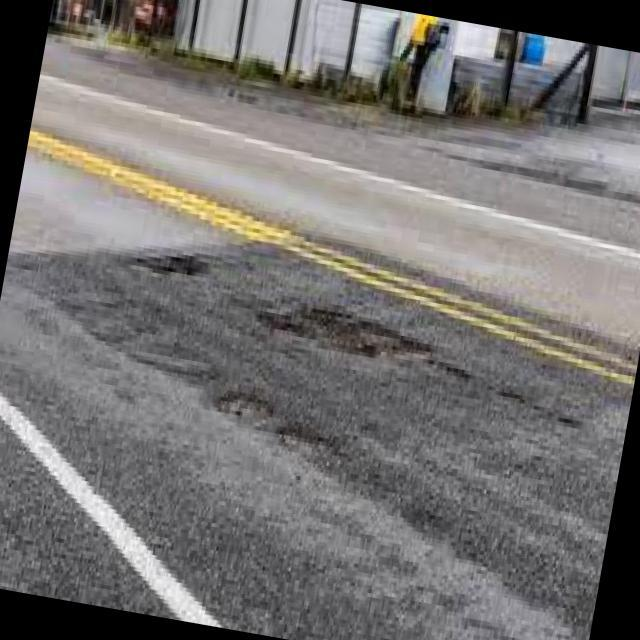pothole: (251, 281, 438, 369), (125, 238, 217, 288), (278, 422, 356, 478), (216, 378, 281, 431)
